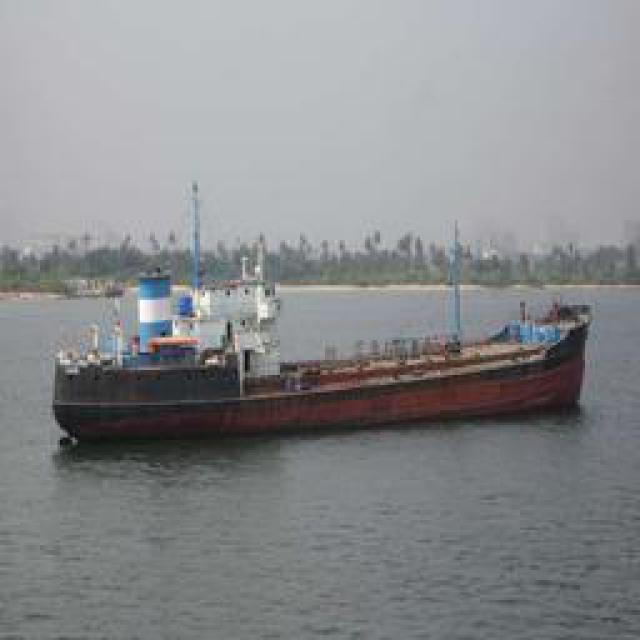Ship: (49, 276, 602, 443)
